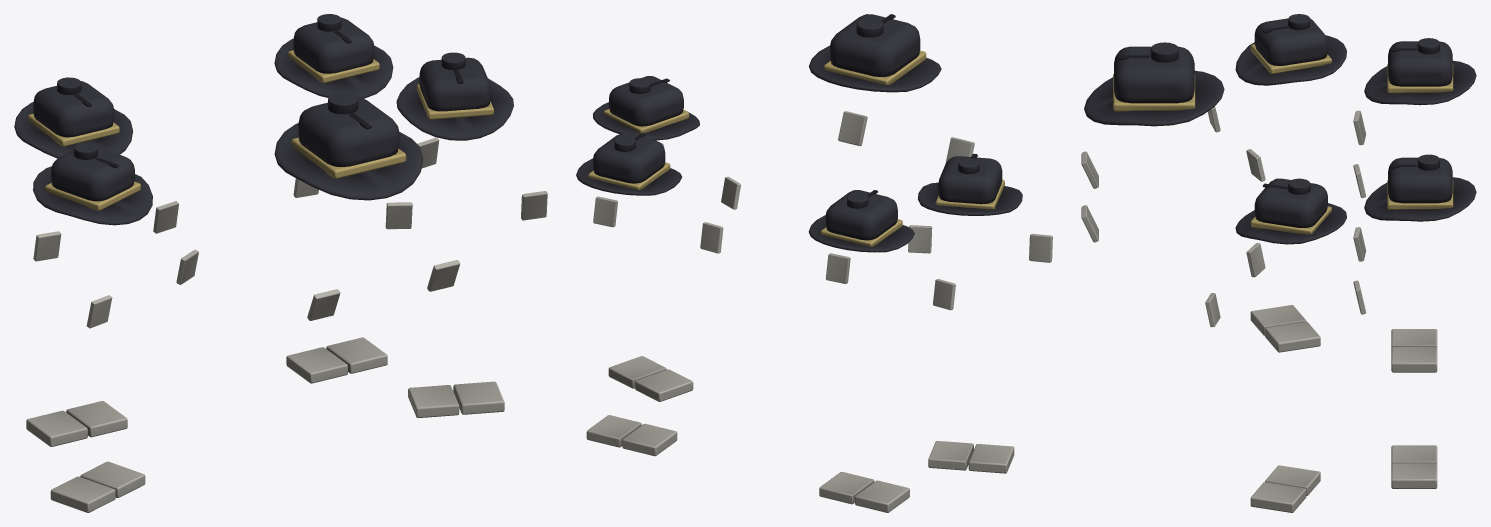
The model's file is velvet-mob-lod0.glb.
The picture shows the model from 3 angles, left to right: view 1: azimuth 30°, elevation 25°; view 2: azimuth 150°, elevation 25°; view 3: azimuth 270°, elevation 25°; orthographic projection. The views are drawn at different scales.
Visible parts, largest first — view 1: cap_hat, att2_hat, att3_hat, att0_hat, att1_hat, att3_leg_r_trim, att0_leg_r_trim, att1_leg_r_trim, att2_leg_r_trim, att2_leg_l_trim, att1_leg_l_trim, att0_leg_l_trim (+7 smaller); view 2: cap_hat, att2_hat, att0_hat, att1_hat, att3_hat, att2_leg_r_trim, att0_leg_r_trim, att1_leg_r_trim, att3_leg_r_trim, att3_leg_l_trim, att0_leg_l_trim, att1_leg_l_trim (+8 smaller); view 3: cap_hat, att3_hat, att0_hat, att1_hat, att2_hat, att2_leg_l_trim, att3_leg_l_trim, att1_leg_l_trim, att0_leg_l_trim, att2_leg_r_trim, att3_leg_r_trim, att0_leg_r_trim (+2 smaller).
Boxes of the visible parts, <box> form: cap_hat: <box>274,92,422,200</box>; att2_hat: <box>396,52,513,140</box>; att3_hat: <box>33,142,152,225</box>; att0_hat: <box>274,14,393,98</box>; att1_hat: <box>14,77,132,158</box>; att3_leg_r_trim: <box>50,476,115,512</box>; att0_leg_r_trim: <box>286,347,347,383</box>; att1_leg_r_trim: <box>26,410,87,446</box>; att2_leg_r_trim: <box>408,385,459,417</box>; att2_leg_l_trim: <box>453,381,504,414</box>; att1_leg_l_trim: <box>66,401,127,437</box>; att0_leg_l_trim: <box>326,337,387,373</box>; cap_hat: <box>809,14,941,92</box>; att2_hat: <box>593,76,699,140</box>; att0_hat: <box>576,133,682,195</box>; att1_hat: <box>808,190,914,252</box>; att3_hat: <box>918,153,1022,215</box>; att2_leg_r_trim: <box>635,369,693,401</box>; att0_leg_r_trim: <box>622,423,677,456</box>; att1_leg_r_trim: <box>855,480,909,512</box>; att3_leg_r_trim: <box>968,444,1014,473</box>; att3_leg_l_trim: <box>928,441,973,470</box>; att0_leg_l_trim: <box>586,415,641,447</box>; att1_leg_l_trim: <box>819,472,874,504</box>; cap_hat: <box>1084,42,1224,126</box>; att3_hat: <box>1235,14,1346,85</box>; att0_hat: <box>1364,154,1476,221</box>; att1_hat: <box>1364,38,1476,105</box>; att2_hat: <box>1235,178,1346,244</box>; att2_leg_l_trim: <box>1250,482,1306,512</box>; att3_leg_l_trim: <box>1265,321,1320,352</box>; att1_leg_l_trim: <box>1391,346,1437,372</box>; att0_leg_l_trim: <box>1391,463,1437,488</box>; att2_leg_r_trim: <box>1265,465,1320,495</box>; att3_leg_r_trim: <box>1250,305,1306,335</box>; att0_leg_r_trim: <box>1391,445,1437,464</box>.
Size of the model in its own units: 2.21 by 1.82 by 1.78.
